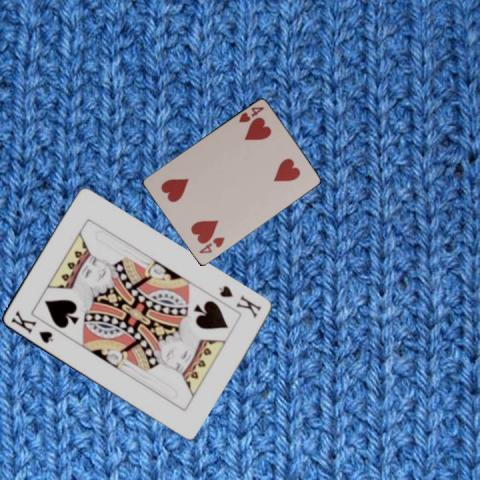4h: (195, 234, 226, 255), (236, 104, 266, 124)
Ks: (7, 308, 55, 346), (214, 282, 262, 319)
